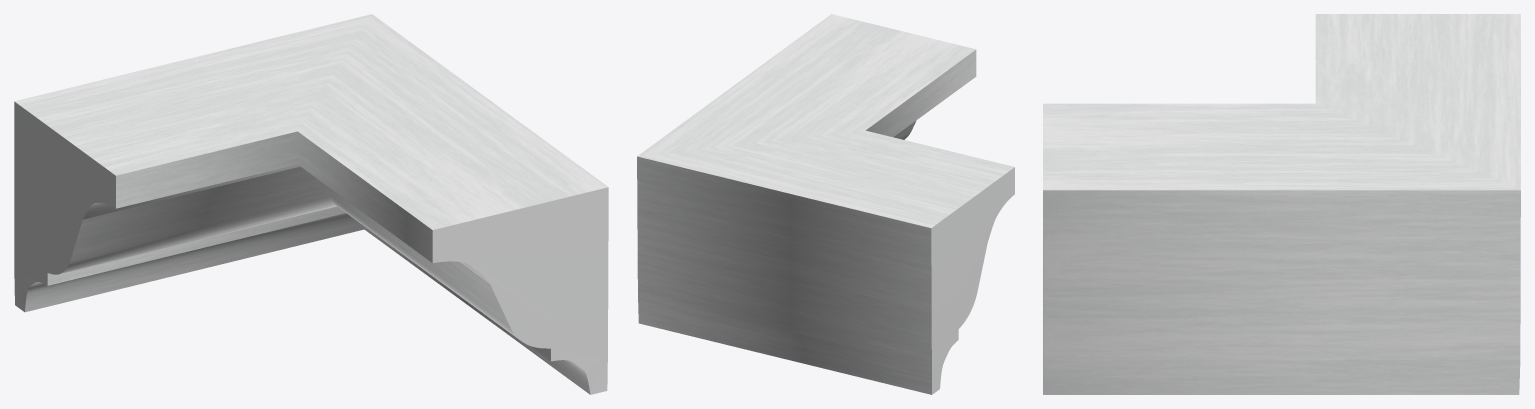
The model's file is crown molding inside corner.FBX.
The picture shows the model from 3 angles, left to right: view 1: azimuth 30°, elevation 25°; view 2: azimuth 150°, elevation 25°; view 3: azimuth 270°, elevation 25°; orthographic projection. The views are drawn at different scales.
Visible parts, largest first — view 1: Line014; view 2: Line014; view 3: Line014.
Boxes of the visible parts, <box> form: Line014: <box>14,14,608,394</box>; Line014: <box>637,14,1014,394</box>; Line014: <box>1043,14,1520,394</box>.
Size of the model in its own units: 92.24 by 50.03 by 106.
Materials: 1 (1 with a texture image).
